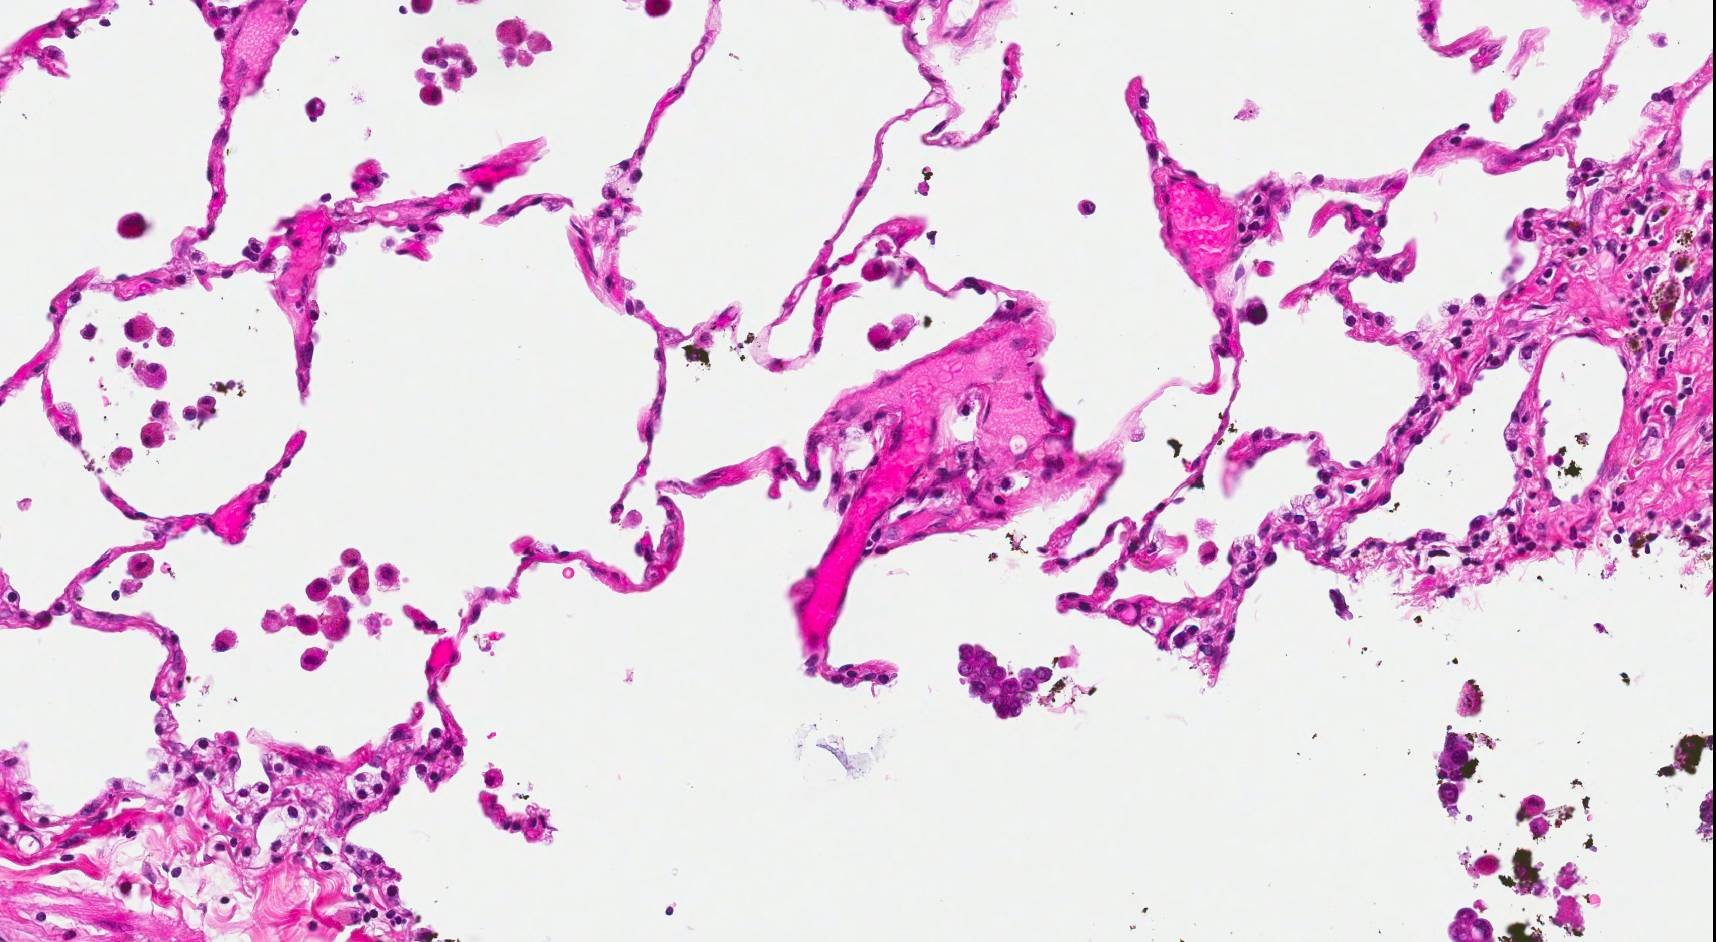stas: (949, 636, 1057, 724)
